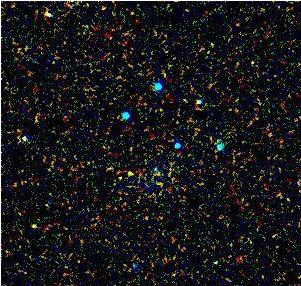star: (114, 159, 144, 189)
